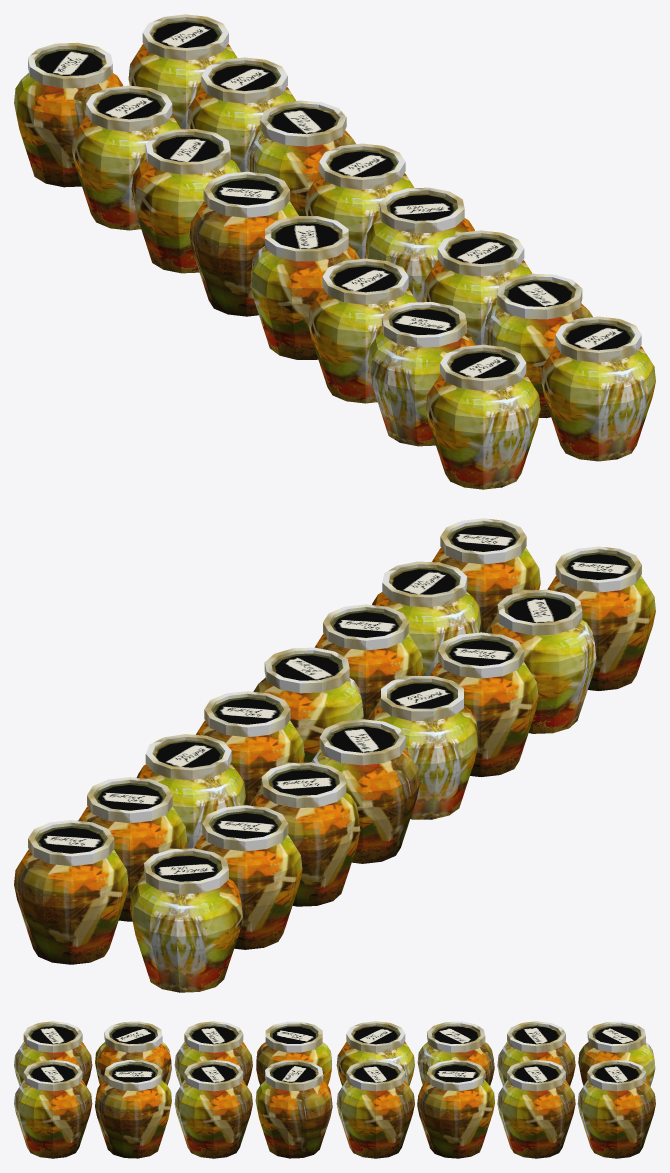
File: pickledvegpile.fbx
3 views of the same model, one above another, from view 1: azimuth 30°, elevation 25°; view 2: azimuth 150°, elevation 25°; view 3: azimuth 270°, elevation 25° (orthographic). The views are drawn at different scales.
Visible parts, largest first — view 1: pickledvegpile; view 2: pickledvegpile; view 3: pickledvegpile.
Boxes of the visible parts, x1,y1,x2,y2 form: pickledvegpile: (14, 14, 655, 489); pickledvegpile: (14, 518, 655, 992); pickledvegpile: (14, 1021, 655, 1158).
Size of the model in its own units: 88.04 by 43.33 by 334.
